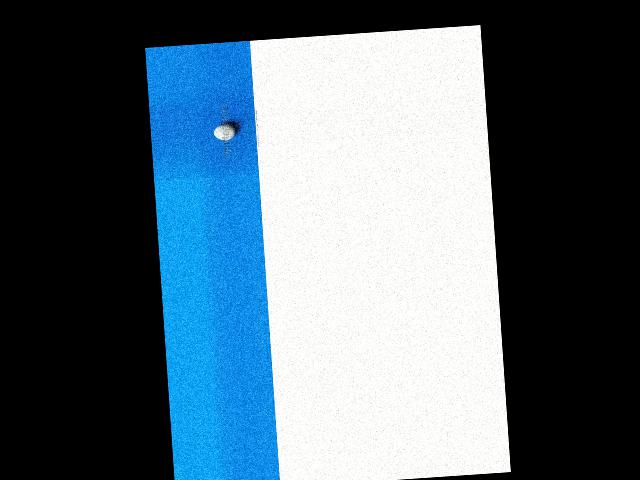egg: (212, 123, 236, 140)
